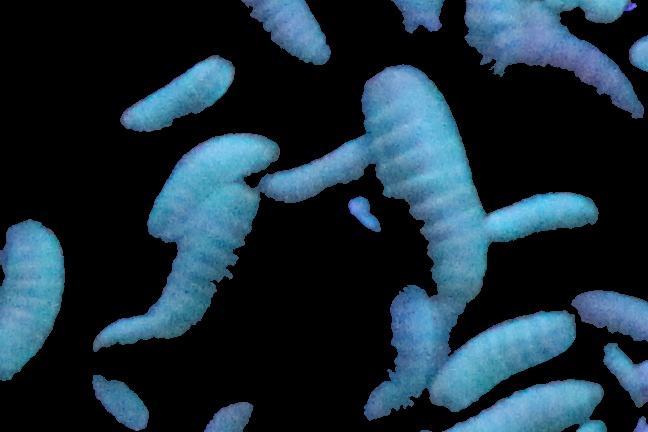larvae: (359, 69, 490, 303), (91, 181, 259, 352), (424, 307, 579, 414), (479, 29, 648, 120), (145, 132, 280, 238), (362, 289, 442, 432), (1, 220, 65, 381), (436, 380, 605, 432), (120, 57, 232, 132), (258, 136, 374, 203), (477, 192, 606, 244), (238, 1, 333, 66), (572, 284, 648, 345), (600, 340, 647, 415), (88, 375, 149, 432), (200, 395, 256, 432), (394, 1, 445, 33)
